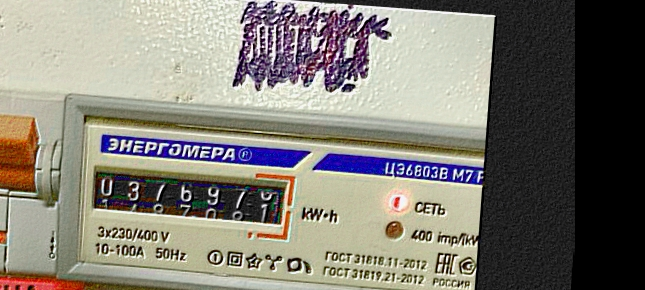0: (98, 175, 115, 198)
1: (258, 201, 268, 224)
3: (126, 180, 141, 202)
6: (178, 179, 195, 204)
7: (152, 179, 168, 203), (232, 184, 247, 208)
9: (205, 183, 220, 206)
screen: (80, 156, 299, 244)
